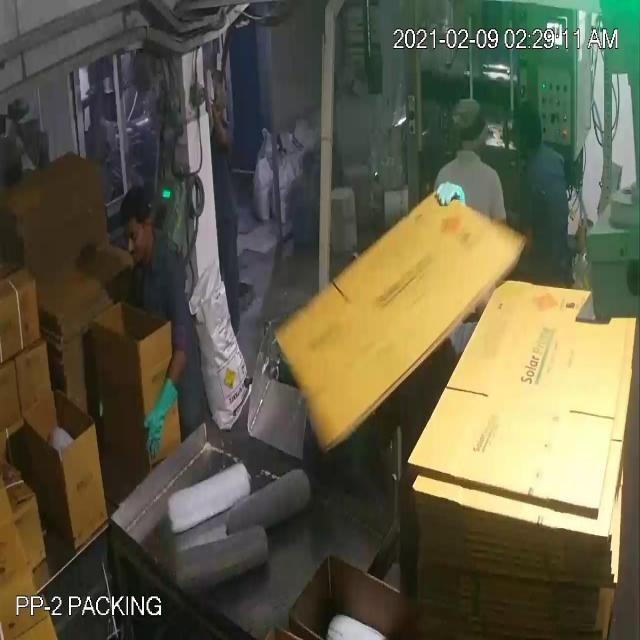Gloves: (29, 70, 212, 410)
